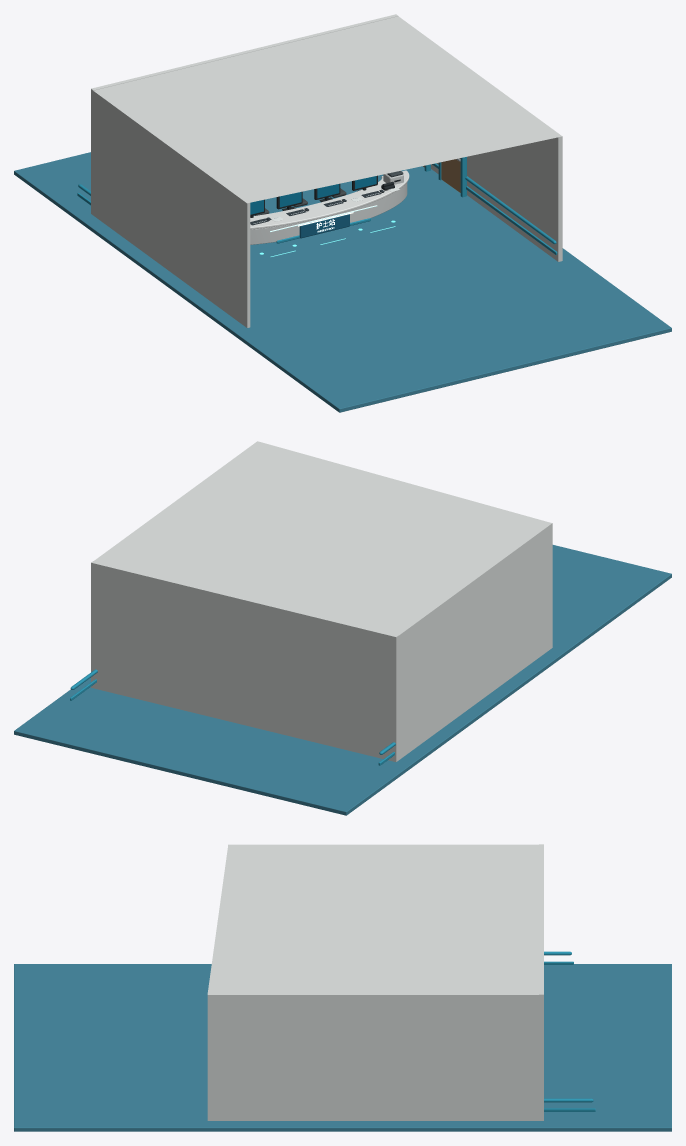
File: high_fidelity_nurse_station_v3.glb
3 views of the same model, one above another, from view 1: azimuth 30°, elevation 25°; view 2: azimuth 150°, elevation 25°; view 3: azimuth 270°, elevation 25° (orthographic).
Visible parts, largest first — view 1: Corridor_Inner_Wall_Left, Floor, Nurse_Counter_Top, Nurse_Counter, Door_Frame_Side_Right_01_-0.65, Nurse_Station_Sign; view 2: Corridor_Inner_Wall_Left, Floor; view 3: Corridor_Inner_Wall_Left, Floor.
Part boxes in pixels (bbox=[...]): Corridor_Inner_Wall_Left: bbox=[91, 14, 562, 327]; Floor: bbox=[14, 152, 671, 412]; Nurse_Counter_Top: bbox=[250, 170, 409, 229]; Nurse_Counter: bbox=[250, 182, 407, 244]; Door_Frame_Side_Right_01_-0.65: bbox=[438, 157, 466, 197]; Nurse_Station_Sign: bbox=[299, 214, 349, 238]; Corridor_Inner_Wall_Left: bbox=[91, 441, 552, 761]; Floor: bbox=[14, 545, 671, 815]; Corridor_Inner_Wall_Left: bbox=[207, 844, 543, 1120]; Floor: bbox=[14, 964, 671, 1131].
Size of the model in its own units: 17.7 by 6.56 by 30.
